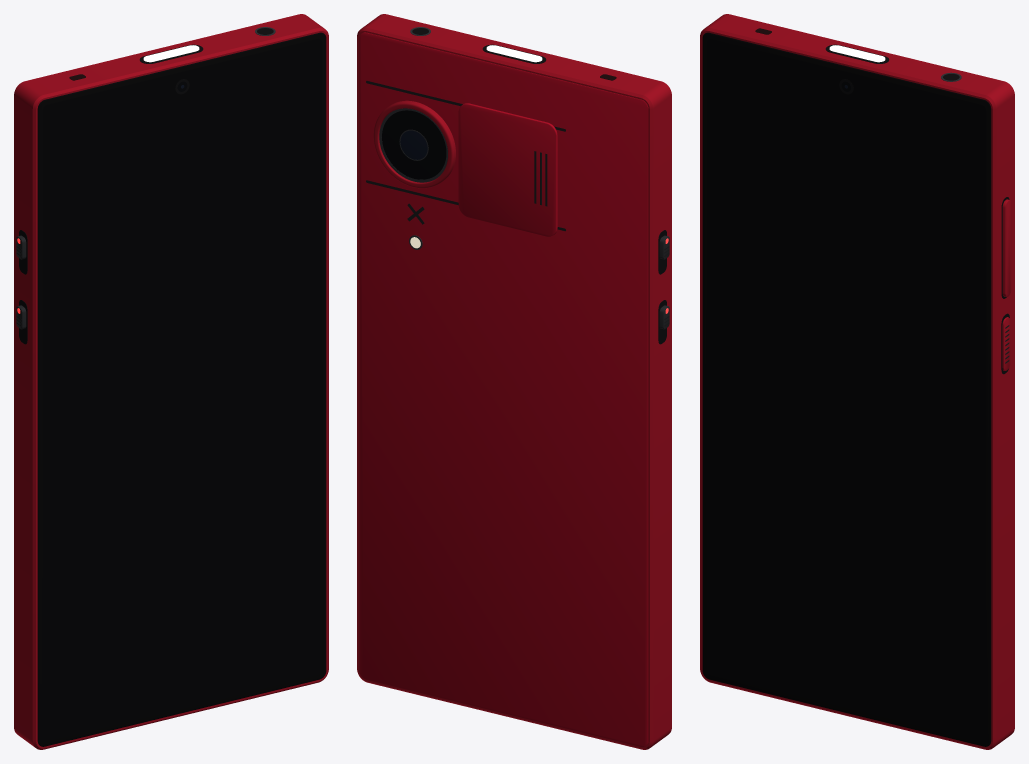
3 renders of one model, left to right at view 1: azimuth 30°, elevation 25°; view 2: azimuth 150°, elevation 25°; view 3: azimuth 330°, elevation 25°, orthographic.
Visible parts, largest first — view 1: Screen, Frame, Glass; view 2: Body, Frame, Shutter, CameraModules, ShutterRails; view 3: Screen, Frame, Glass, VolumeRocker.
Boxes of the visible parts, x1,y1,x2,y2 form: Screen: (42,39,322,741); Frame: (14,14,328,749); Glass: (37,32,326,746); Body: (359,32,648,746); Frame: (357,14,671,749); Shutter: (458,103,557,236); CameraModules: (373,100,455,188); ShutterRails: (366,81,565,231); Screen: (706,39,986,741); Frame: (700,14,1014,749); Glass: (702,32,991,746); VolumeRocker: (1002,199,1011,296).
Bounding box in the file's own units: 0.0729 × 0.1505 × 0.0111.
